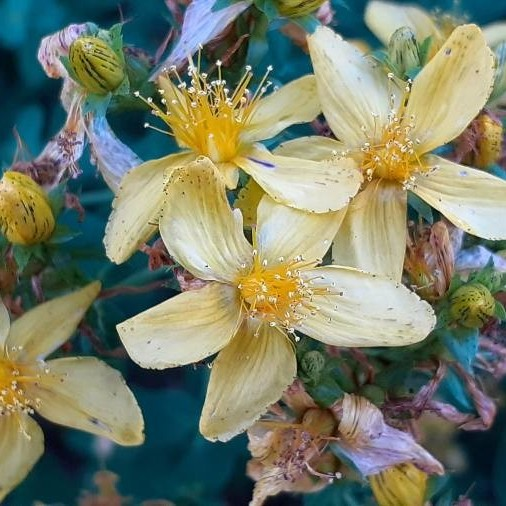obstacle: (112, 63, 448, 413)
